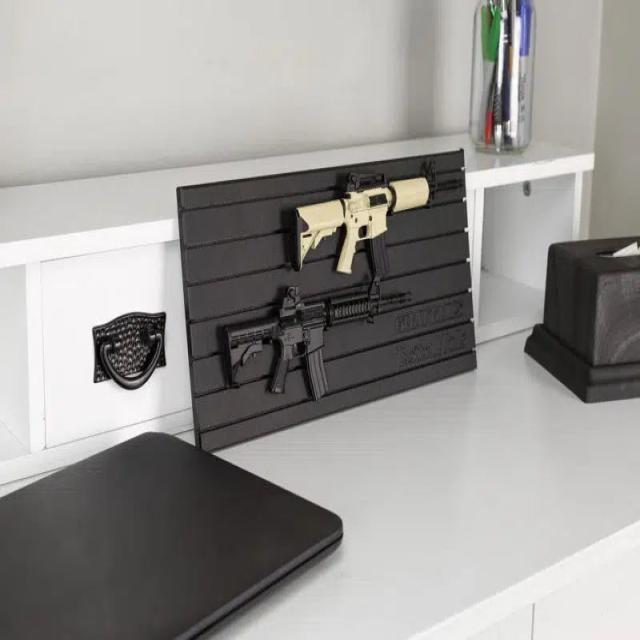Rifle: (229, 287, 414, 402), (295, 167, 458, 276)
